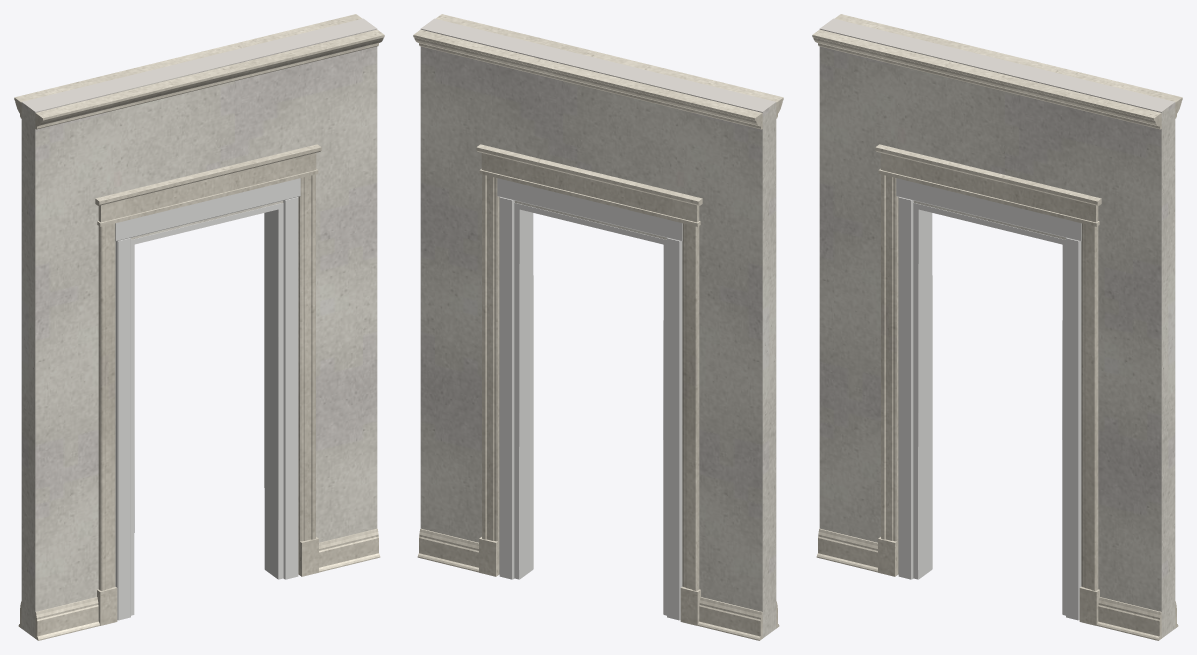
File: iw0_doorway.glb
3 renders of one model, left to right at view 1: azimuth 30°, elevation 25°; view 2: azimuth 150°, elevation 25°; view 3: azimuth 330°, elevation 25°, orthographic.
Visible parts, largest first — view 1: iw0_doorway_plaster, molduras, iw0_doorway_frame; view 2: iw0_doorway_plaster, molduras, iw0_doorway_frame; view 3: iw0_doorway_plaster, molduras, iw0_doorway_frame.
Boxes of the visible parts, x1=… form: iw0_doorway_plaster: x1=21, y1=18, x2=377, y2=638; molduras: x1=14, y1=14, x2=384, y2=640; iw0_doorway_frame: x1=115, y1=178, x2=300, y2=620; iw0_doorway_plaster: x1=420, y1=18, x2=776, y2=638; molduras: x1=413, y1=14, x2=783, y2=640; iw0_doorway_frame: x1=497, y1=178, x2=682, y2=620; iw0_doorway_plaster: x1=819, y1=18, x2=1175, y2=638; molduras: x1=812, y1=14, x2=1182, y2=640; iw0_doorway_frame: x1=896, y1=178, x2=1081, y2=620.
Size of the model in its own units: 2 by 2.94 by 0.29.
Materials: 3 (2 with a texture image).
